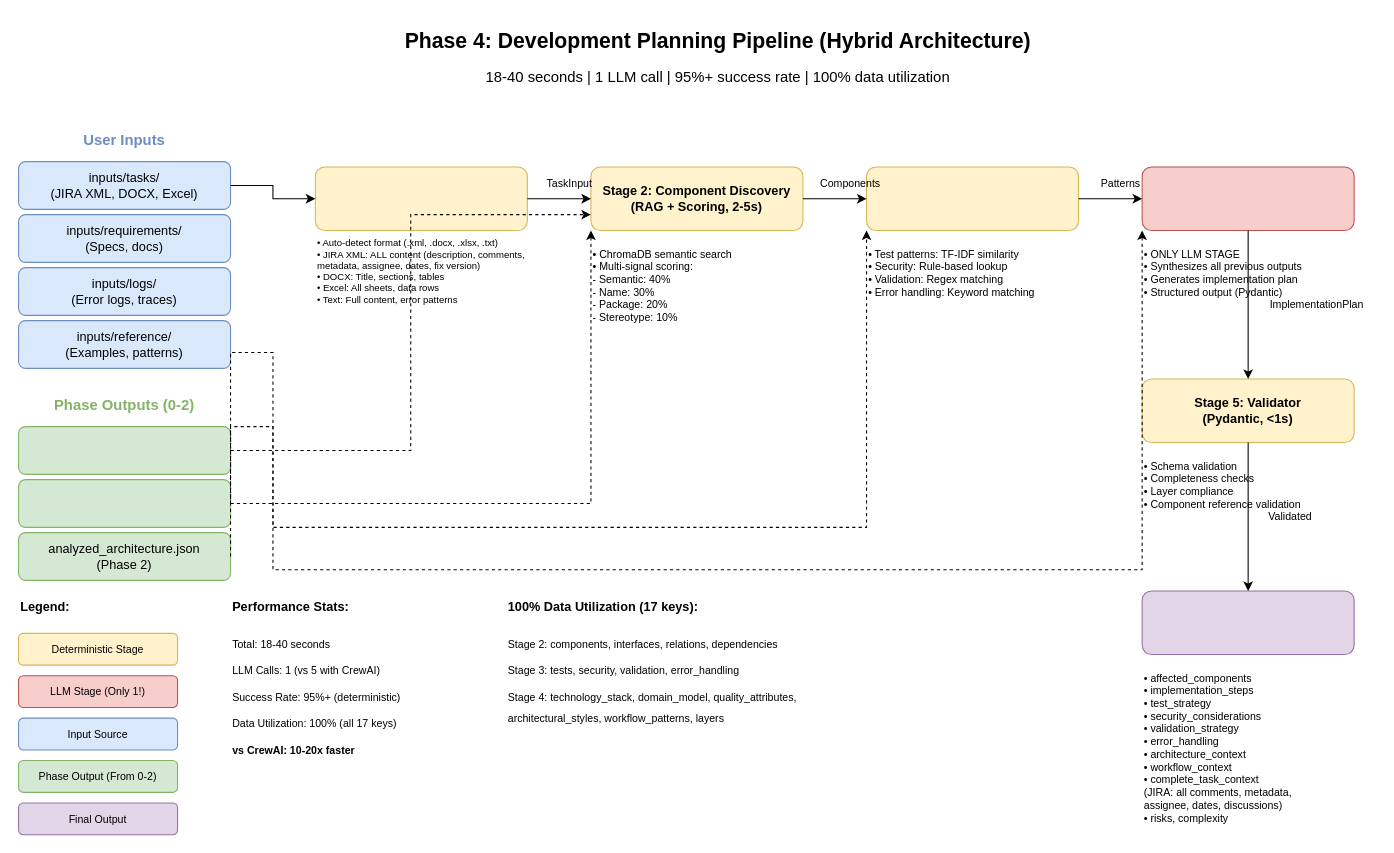
Some shapes in this 1394 by 853 pixel diagram are drawn without their labels. Each missing label, with the centre of its shape:
architecture_facts.json (Phase 1 - 17 keys): point (124, 503)
ChromaDB (Phase 0): point (124, 450)
Output: {task_id}_plan.json: point (1247, 622)
Stage 1: Input Parser (Deterministic, <1s): point (420, 198)
Stage 3: Pattern Matcher (TF-IDF + Rules, 1-3s): point (972, 198)
Stage 4: Plan Generator (LLM Call, 15-30s): point (1247, 198)
